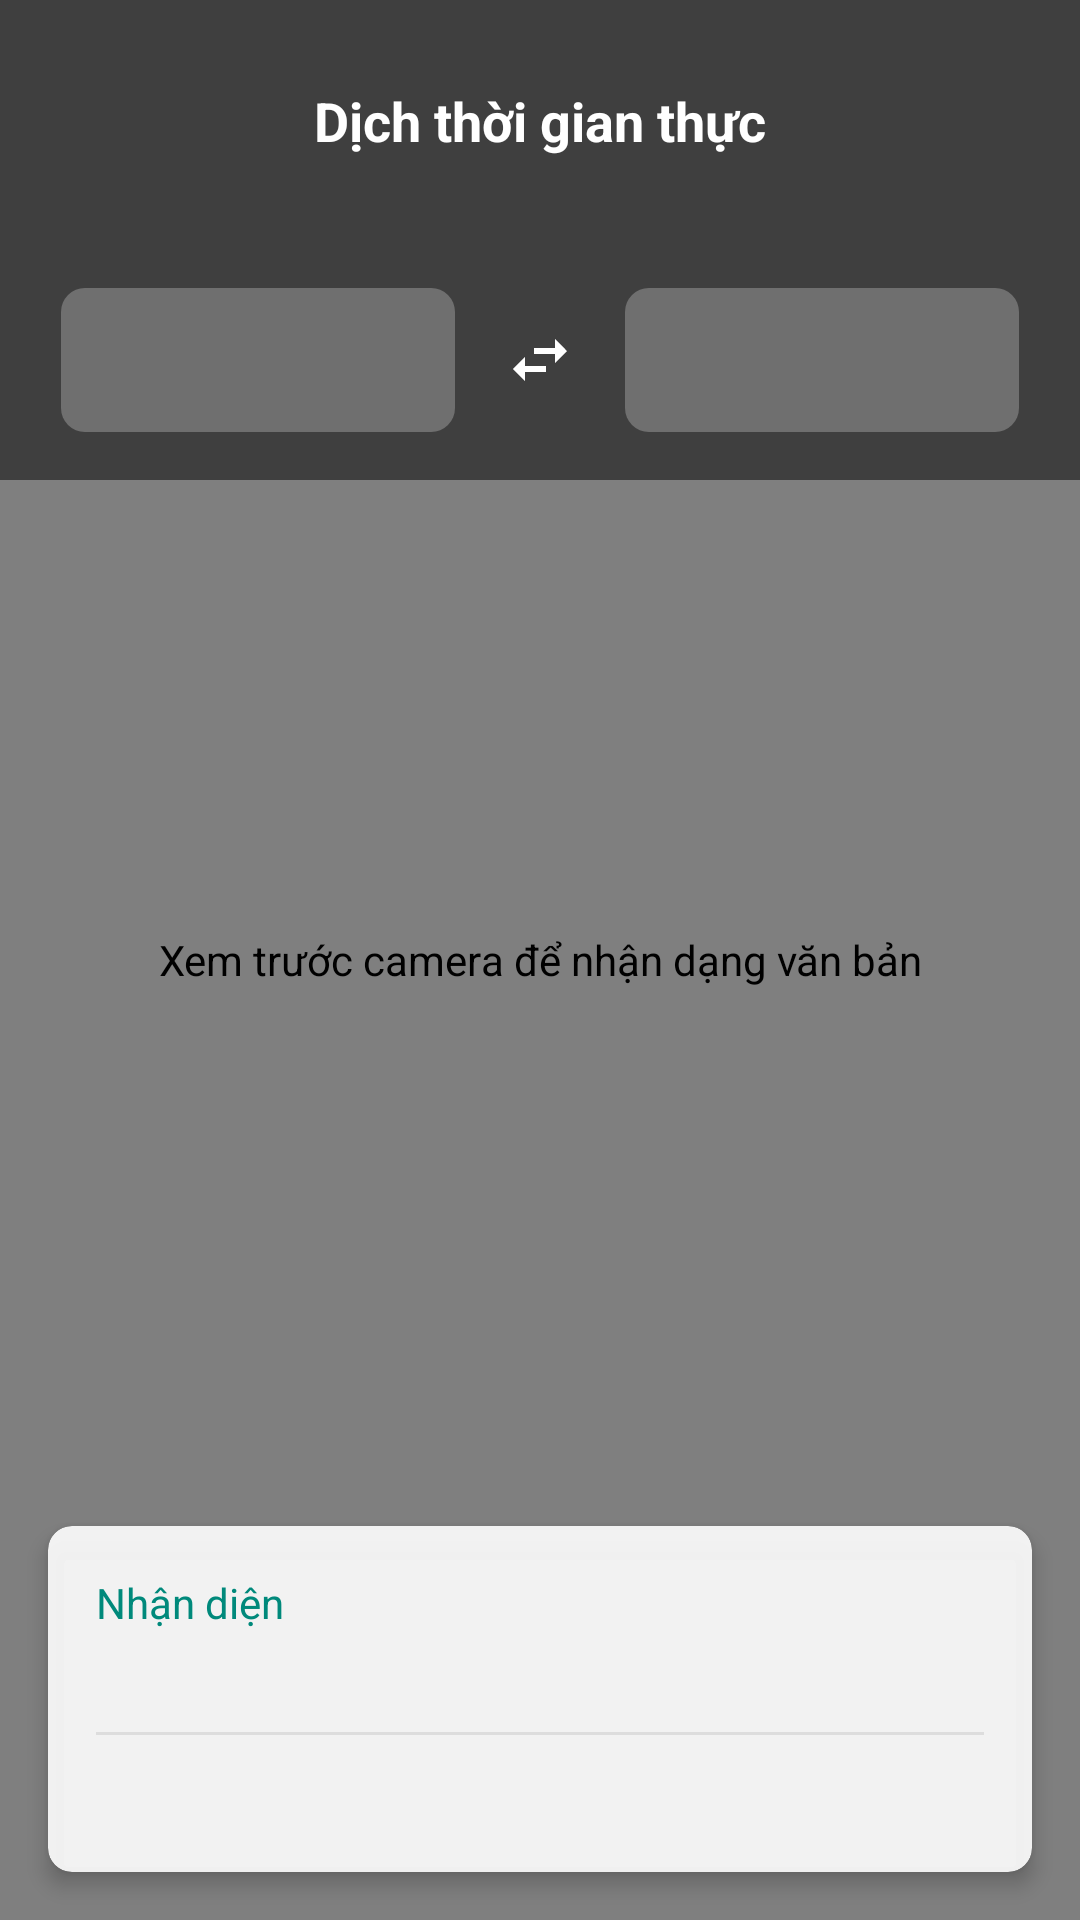

Named icons in this screenshot (1080×1920) and their centers, point (x, y):
Hoán đổi ngôn ngữ: point (540, 360)
